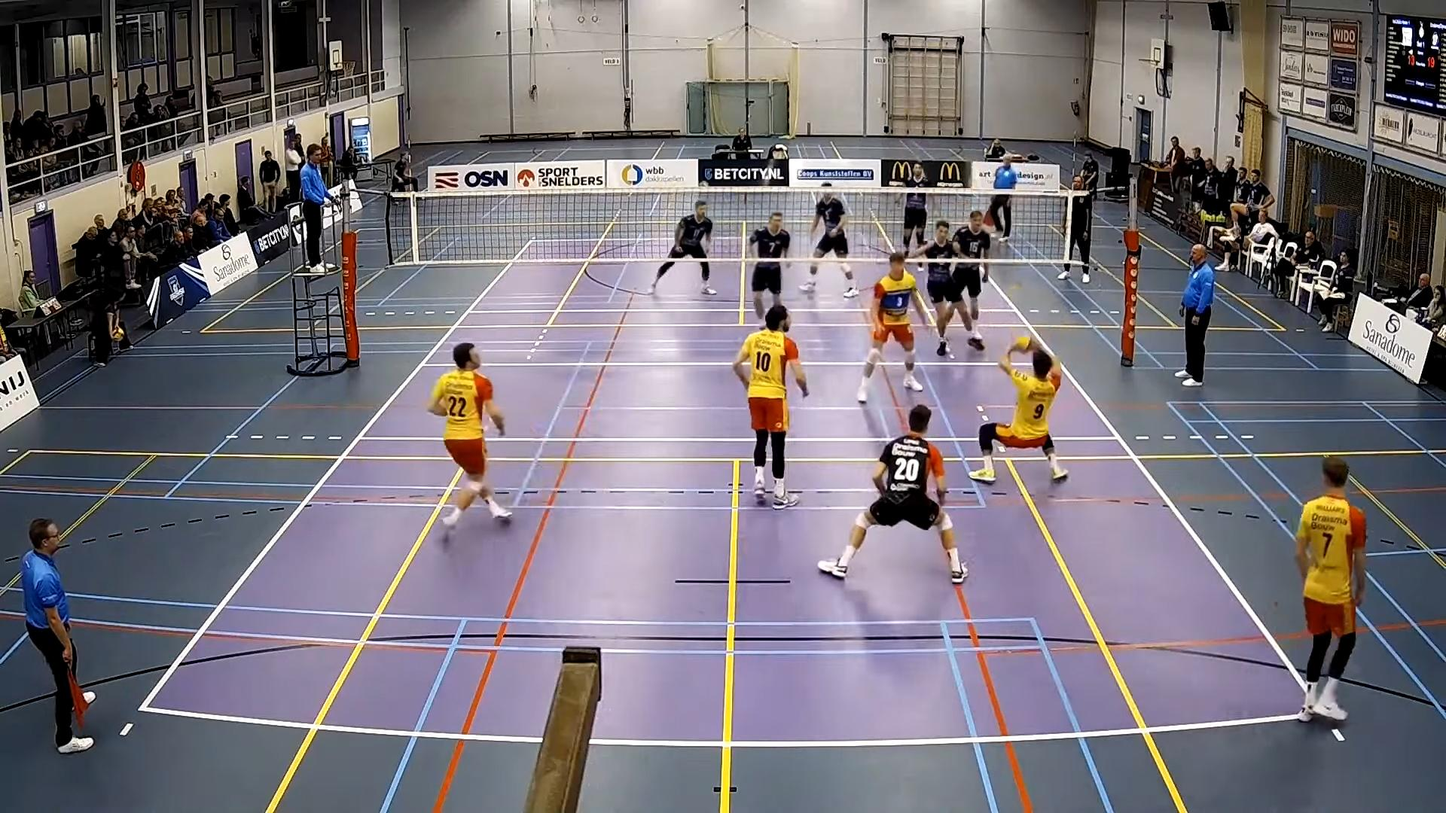ricezione: (961, 334, 1068, 492)
